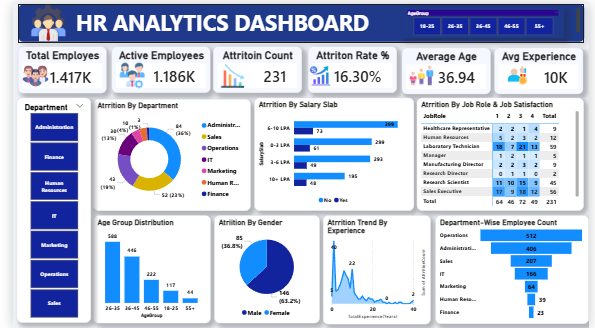

What the dashboard file says about the page in this screenshot:
{"tool":"powerbi","page":{"name":"Page 1","canvas":[1280,720],"ordinal":0},"visuals":[{"type":"textbox","box":[10,0,1259,85],"z":0},{"type":"cardVisual","title":"Total Employes","fields":{"Data":["CountNonNull(HR_Analytics-4.EmpID)"]},"box":[10,95,197,104],"z":1000},{"type":"cardVisual","title":"Active Employees","fields":{"Data":["CountNonNull(HR_Analytics-4.EmployeeCount)"]},"box":[218.2,94.7,219.6,102.9],"z":2000},{"type":"cardVisual","title":"Attritoin Count","fields":{"Data":["Sum(HR_Analytics-4.AttritionCount)"]},"box":[443.2,94.7,197.6,102.9],"z":3000},{"type":"cardVisual","title":"Attriton Rate %","fields":{"Data":["HR_Analytics-4.Atrrition Rate %"]},"box":[654.5,94.7,197.6,102.9],"z":4000},{"type":"cardVisual","title":"Average Age","fields":{"Data":["Avg(HR_Analytics-4.Age)"]},"box":[863.1,96.1,197.6,102.9],"z":5000},{"type":"cardVisual","title":"Avg Experience","fields":{"Data":["Sum(HR_Analytics-4.YearsatCompany)"]},"box":[1070.3,96.1,197.6,102.9],"z":6000},{"type":"image","box":[24.5,0,106.7,84.7],"z":7000},{"type":"image","box":[455.2,133.7,65,52.8],"z":8000},{"type":"image","box":[1084.7,136.2,76.1,44.2],"z":9000},{"type":"image","box":[231.9,130.1,68.7,56.4],"z":10000},{"type":"image","box":[9.8,130.1,77.3,58.9],"z":11000},{"type":"image","box":[871.2,133.7,71.2,51.5],"z":12000},{"type":"image","box":[654,136.2,58.9,46.6],"z":13000},{"type":"donutChart","title":"Atrrition By Department ","fields":{"Category":["HR_Analytics-4.Department"],"Y":["Sum(HR_Analytics-4.AttritionCount)"]},"box":[179,210,350,249],"z":14000},{"type":"clusteredBarChart","title":"Atrrition By Salary Slab","fields":{"Category":["HR_Analytics-4.SalarySlab"],"Y":["CountNonNull(HR_Analytics-4.EmpID)"],"Series":["HR_Analytics-4.Attrition"]},"box":[537,209,355,251],"z":15000},{"type":"pivotTable","title":"Atrrition By Job Role & Job Satisfaction","fields":{"Rows":["HR_Analytics-4.JobRole"],"Values":["Sum(HR_Analytics-4.AttritionCount)"],"Columns":["HR_Analytics-4.JobSatisfaction"]},"box":[898,209,371,251],"z":15001},{"type":"columnChart","title":"Age Group Distribution","fields":{"Category":["HR_Analytics-4.AgeGroup"],"Y":["Sum(HR_Analytics-4.EmployeeCount)"]},"box":[179,469,261.4,240],"z":15002},{"type":"pieChart","title":"Atriition By Gender","fields":{"Category":["HR_Analytics-4.Gender"],"Y":["Sum(HR_Analytics-4.AttritionCount)"]},"box":[448,469,234,240],"z":15003},{"type":"areaChart","title":"Atrrition Trend By Experience","fields":{"Category":["HR_Analytics-4.TotalExperience(Years)"],"Y2":["Sum(HR_Analytics-4.AttritionCount)"]},"box":[689,469,239,242],"z":15004},{"type":"funnel","title":"Department-Wise Employee Count","fields":{"Category":["HR_Analytics-4.Department"],"Y":["CountNonNull(HR_Analytics-4.EmpID)"]},"box":[938.7,468.7,341.1,241.7],"z":15005},{"type":"slicer","fields":{"Values":["HR_Analytics-4.Department"]},"box":[9,209,165,500],"z":15006},{"type":"slicer","fields":{"Values":["HR_Analytics-4.AgeGroup"]},"box":[862.6,8.6,360.7,67.5],"z":15007}]}

Visuals, with their boxes in screenshot pixels (x1, y1, x2, y2), scaled from the page's 1280x720 canvas onto the 595x328 screenshot:
textbox: x1=5, y1=0, x2=590, y2=39
"Total Employes" cardVisual: x1=5, y1=43, x2=96, y2=91
"Active Employees" cardVisual: x1=101, y1=43, x2=204, y2=90
"Attritoin Count" cardVisual: x1=206, y1=43, x2=298, y2=90
"Attriton Rate %" cardVisual: x1=304, y1=43, x2=396, y2=90
"Average Age" cardVisual: x1=401, y1=44, x2=493, y2=91
"Avg Experience" cardVisual: x1=498, y1=44, x2=589, y2=91
image: x1=11, y1=0, x2=61, y2=39
image: x1=212, y1=61, x2=242, y2=85
image: x1=504, y1=62, x2=540, y2=82
image: x1=108, y1=59, x2=140, y2=85
image: x1=5, y1=59, x2=40, y2=86
image: x1=405, y1=61, x2=438, y2=84
image: x1=304, y1=62, x2=331, y2=83
"Atrrition By Department " donutChart: x1=83, y1=96, x2=246, y2=209
"Atrrition By Salary Slab" clusteredBarChart: x1=250, y1=95, x2=415, y2=210
"Atrrition By Job Role & Job Satisfaction" pivotTable: x1=417, y1=95, x2=590, y2=210
"Age Group Distribution" columnChart: x1=83, y1=214, x2=205, y2=323
"Atriition By Gender" pieChart: x1=208, y1=214, x2=317, y2=323
"Atrrition Trend By Experience" areaChart: x1=320, y1=214, x2=431, y2=324
"Department-Wise Employee Count" funnel: x1=436, y1=214, x2=594, y2=324
slicer - HR_Analytics-4.Department: x1=4, y1=95, x2=81, y2=323
slicer - HR_Analytics-4.AgeGroup: x1=401, y1=4, x2=569, y2=35
